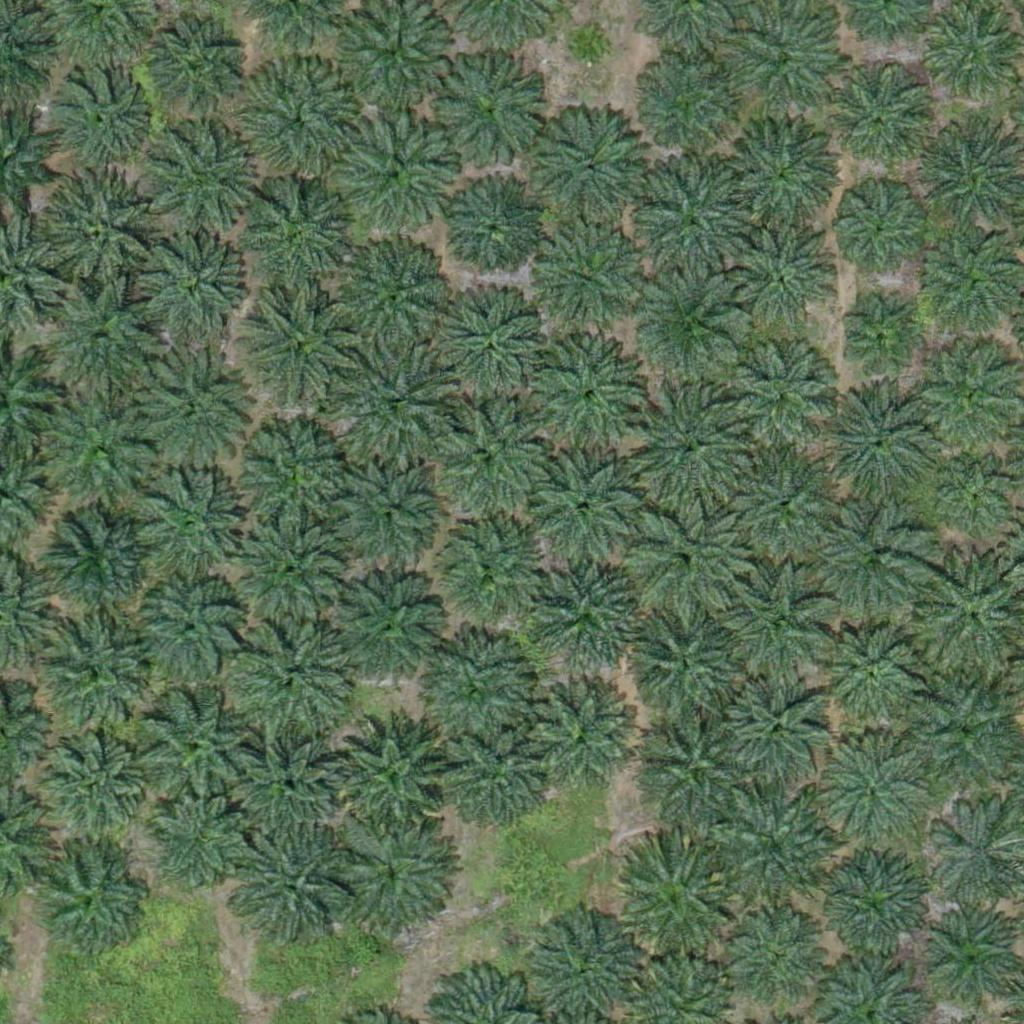Kelapa_Sawit: (632, 162, 757, 288), (331, 236, 456, 362), (238, 55, 363, 181), (237, 177, 362, 303), (237, 289, 362, 415), (32, 168, 157, 294), (40, 279, 165, 405), (30, 386, 155, 512), (124, 468, 249, 594), (127, 345, 252, 471), (129, 688, 254, 814), (234, 508, 359, 634), (233, 616, 358, 742), (229, 824, 354, 950), (415, 398, 540, 524), (328, 709, 453, 835), (332, 813, 457, 939), (625, 383, 750, 509), (621, 498, 746, 624), (329, 108, 454, 233), (234, 414, 359, 539), (420, 509, 545, 634), (409, 627, 534, 752), (612, 842, 737, 967), (30, 725, 143, 839), (42, 618, 155, 732), (143, 787, 256, 901), (726, 449, 839, 563), (723, 342, 836, 456), (634, 270, 747, 383), (528, 224, 641, 337), (531, 106, 644, 219), (34, 844, 147, 957), (45, 506, 158, 619), (329, 572, 442, 685), (330, 458, 443, 571), (343, 343, 456, 456), (435, 717, 548, 830), (722, 674, 835, 787), (719, 570, 832, 683), (818, 854, 931, 967), (818, 390, 930, 504), (820, 504, 932, 618), (908, 683, 1020, 797), (724, 114, 836, 227), (435, 47, 547, 160), (445, 293, 557, 406), (131, 229, 243, 342), (147, 123, 259, 236), (135, 576, 247, 689), (227, 732, 339, 845), (526, 680, 638, 793), (533, 555, 645, 668), (525, 452, 637, 565), (530, 342, 642, 455), (630, 612, 742, 725), (637, 710, 749, 823), (719, 797, 831, 910), (733, 228, 833, 329), (638, 52, 738, 153), (445, 179, 545, 280), (147, 17, 247, 118), (52, 67, 152, 168), (826, 739, 926, 840), (920, 910, 1020, 1011), (920, 352, 1020, 453), (724, 906, 824, 1007), (540, 918, 640, 1019), (923, 9, 1023, 109), (819, 622, 919, 722), (836, 187, 924, 275), (838, 82, 926, 170), (839, 302, 914, 378), (941, 461, 1016, 537), (564, 23, 614, 73)
